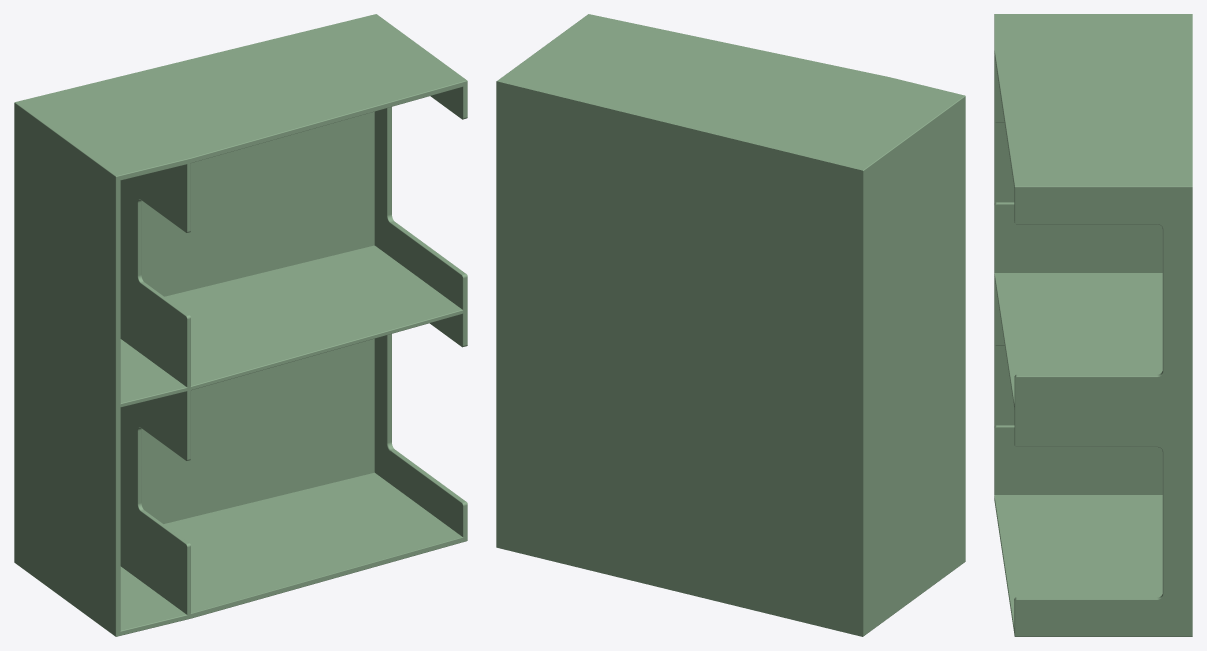
Rendered from card_caddy_mini.glb.
3 views of the same model, side by side, from view 1: azimuth 30°, elevation 25°; view 2: azimuth 150°, elevation 25°; view 3: azimuth 270°, elevation 25° (orthographic). The views are drawn at different scales.
Visible parts, largest first — view 1: Card caddy 177mm x 143mm side by side\Solid; view 2: Card caddy 177mm x 143mm side by side\Solid; view 3: Card caddy 177mm x 143mm side by side\Solid.
Boxes of the visible parts, x1=… form: Card caddy 177mm x 143mm side by side\Solid: x1=14, y1=14, x2=467, y2=636; Card caddy 177mm x 143mm side by side\Solid: x1=496, y1=14, x2=965, y2=636; Card caddy 177mm x 143mm side by side\Solid: x1=994, y1=14, x2=1192, y2=636.
Bounding box in the file's own units: 146 × 178 × 71.
